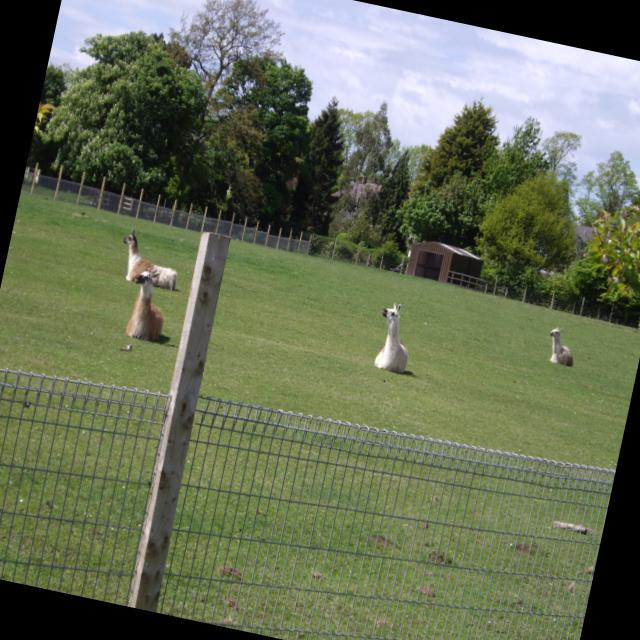alpaca: (113, 222, 187, 292), (122, 266, 174, 340), (368, 300, 419, 373), (544, 318, 584, 370)
